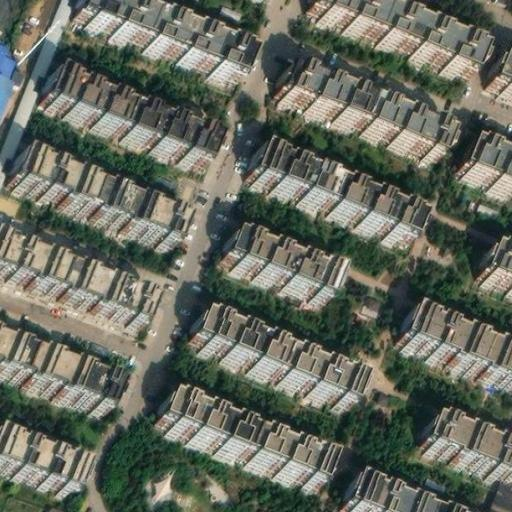building: (9, 152, 185, 247), (277, 64, 458, 156), (153, 393, 328, 487), (249, 145, 423, 238), (45, 68, 217, 160), (191, 309, 361, 400), (77, 0, 254, 80), (0, 248, 160, 334), (310, 0, 487, 75), (0, 347, 125, 425), (401, 305, 512, 381), (222, 226, 340, 296), (420, 411, 512, 481), (0, 438, 96, 503), (339, 474, 425, 512), (460, 135, 512, 189), (481, 244, 512, 287), (485, 476, 512, 512), (46, 500, 67, 512)
